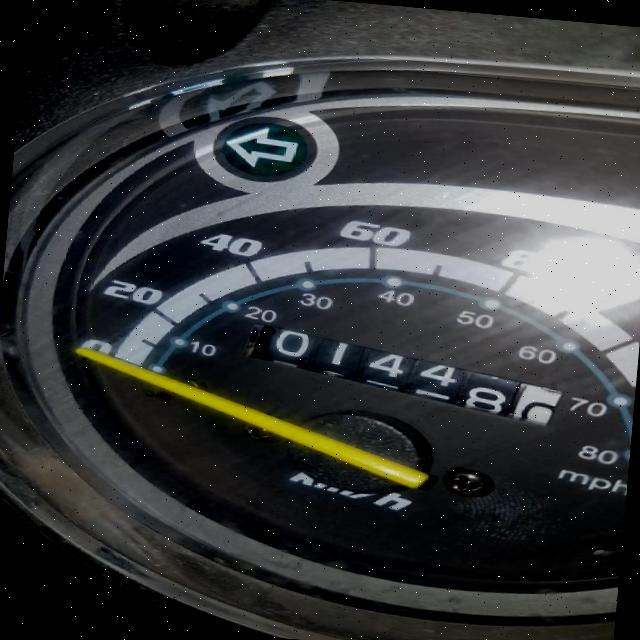odometer: (231, 316, 568, 429)
